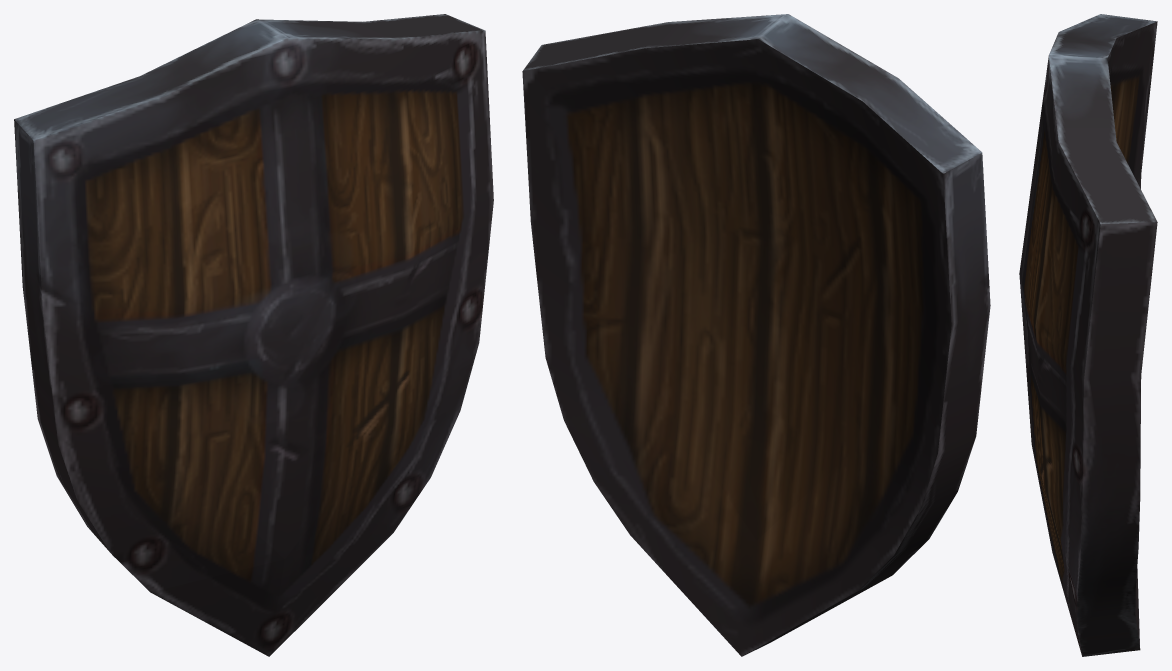
File: Prop_shield.fbx
The picture shows the model from 3 angles, left to right: view 1: azimuth 30°, elevation 25°; view 2: azimuth 150°, elevation 25°; view 3: azimuth 270°, elevation 25°; orthographic projection. The views are drawn at different scales.
Visible parts, largest first — view 1: polySurface575; view 2: polySurface575; view 3: polySurface575.
Part boxes in pixels (<box>): polySurface575: <box>14,14,493,656</box>; polySurface575: <box>522,14,990,656</box>; polySurface575: <box>1019,14,1157,656</box>.
Bounding box in the file's own units: 1.11 × 1.48 × 0.3074.
Materials: 1 (1 with a texture image).
